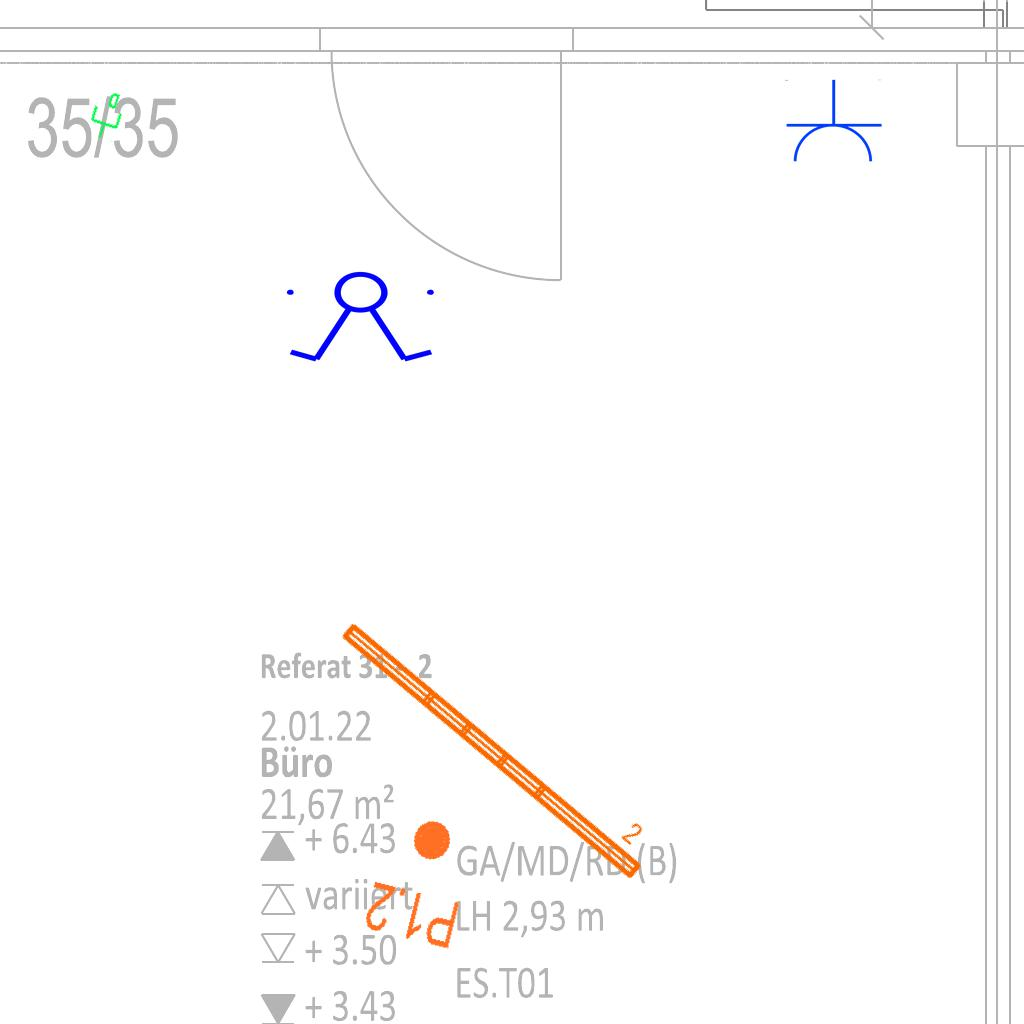Ambulanz_Pendelleuchte_LED: (333, 595, 666, 887)
Datenanschluss_einfach: (82, 85, 130, 145)
Downlight_LED_Einbauleuchten_Flur: (359, 806, 482, 954)
Schukosteckdose_einfach: (783, 79, 883, 166)
Serienschalter: (278, 270, 446, 366)
